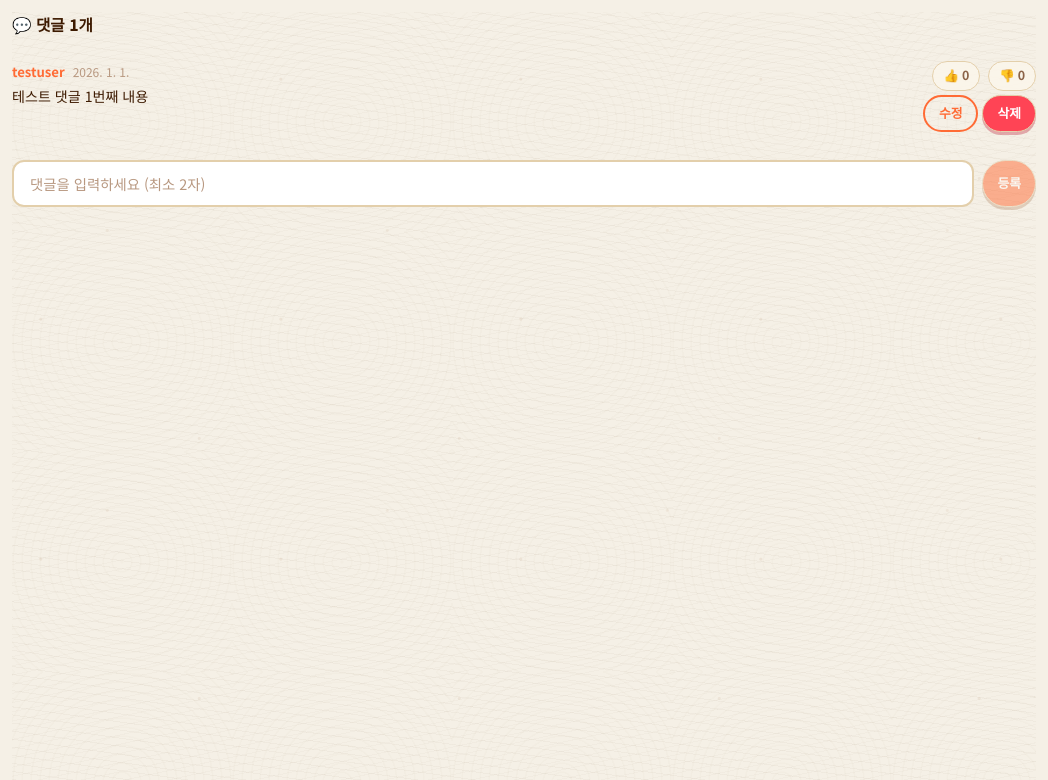
RecommendationCommentSection › 댓글 수정·삭제 권한 › 취소 버튼 клик 시 원래 내용으로 돌아간다
Click the button "수정" at (951, 113), box [923,95,978,132]
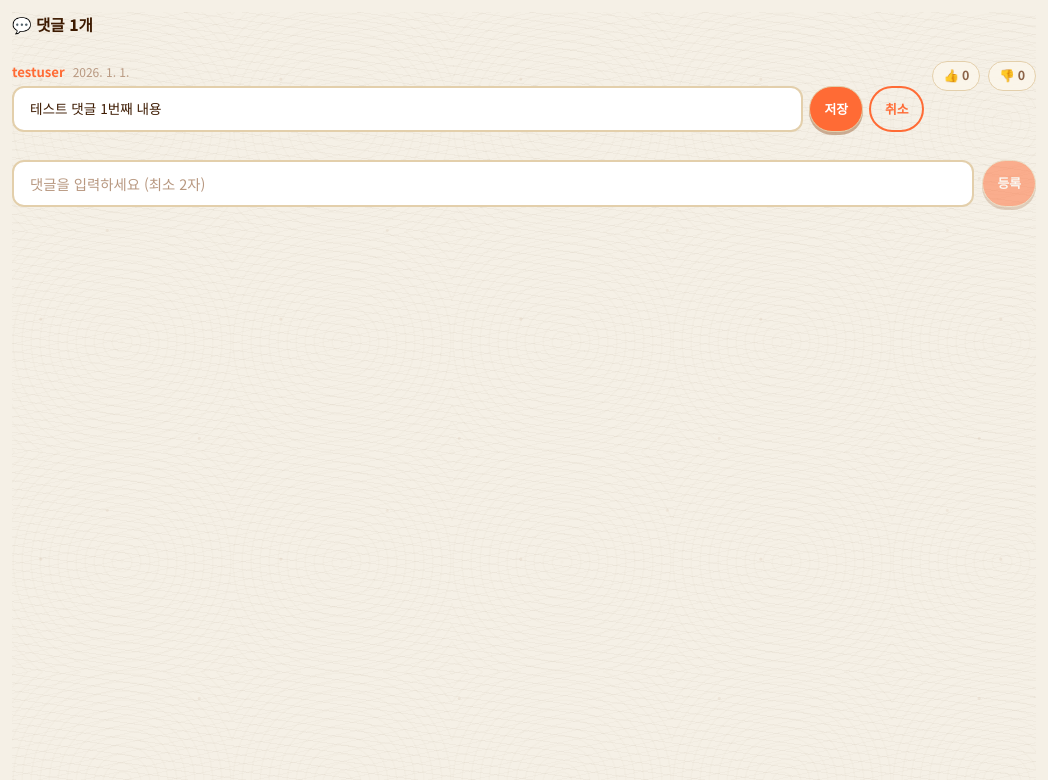
Click the button "취소" at (897, 109), box [869,86,924,132]
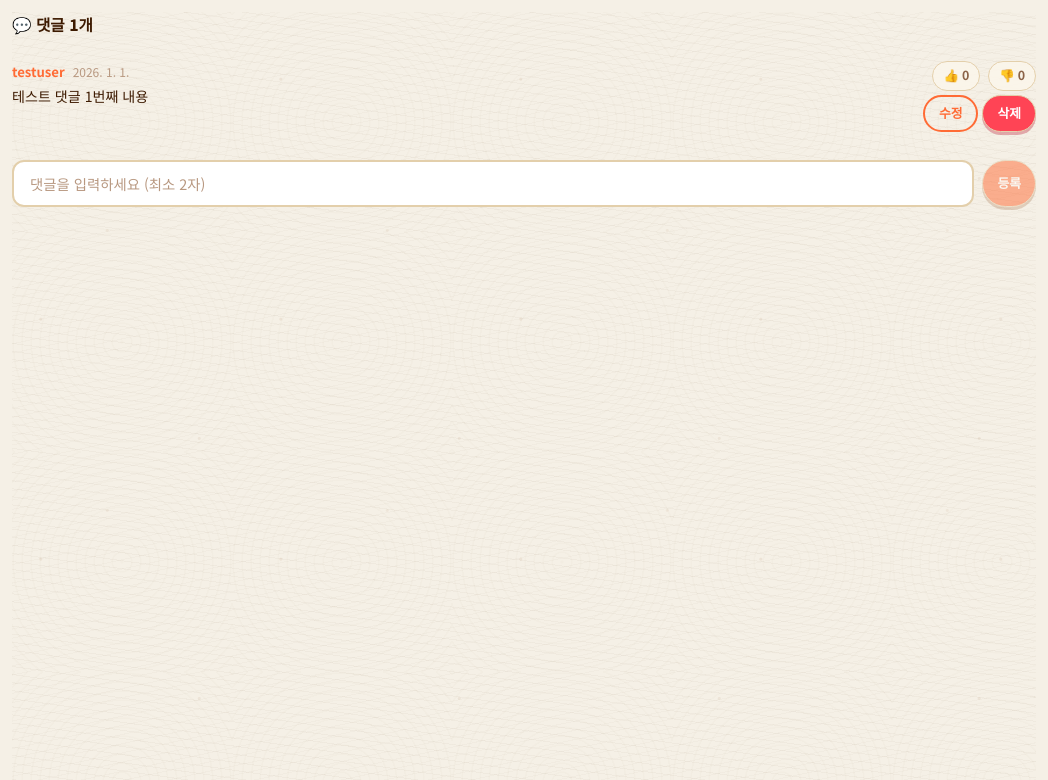
Expected: the text "테스트 댓글 1번째 내용" is shown, [12,86,148,106]
Expected: the button "수정" is shown, [923,95,978,132]
